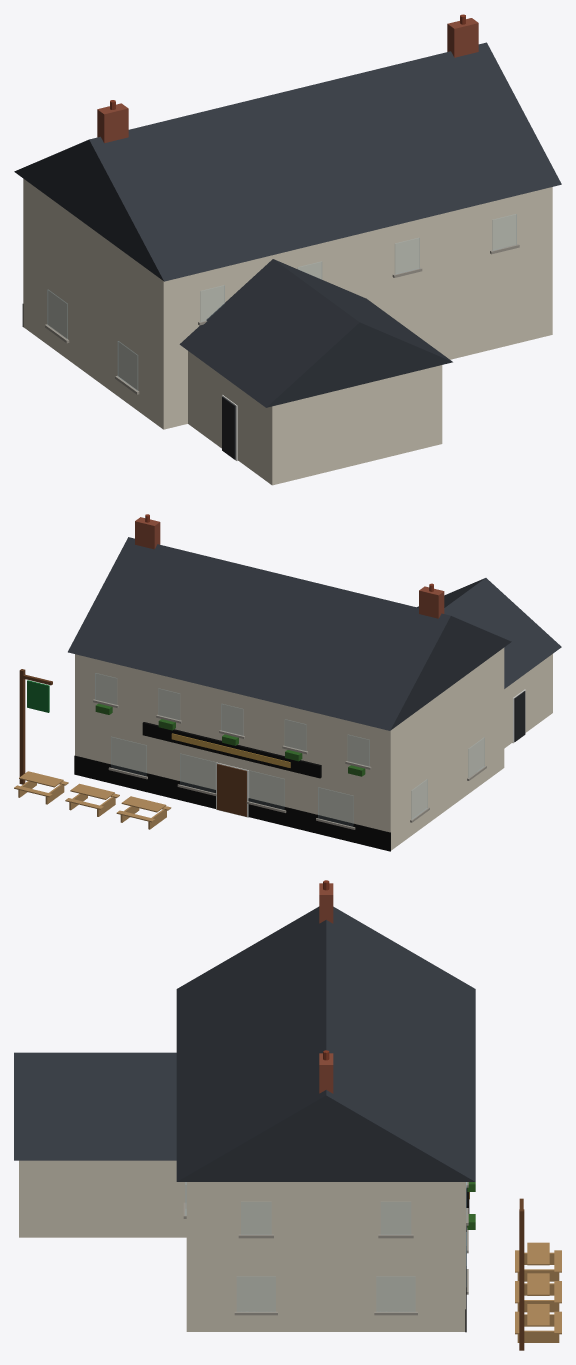
Rendered from context.type.pub.glb.
The picture shows the model from 3 angles, top to bottom: view 1: azimuth 30°, elevation 25°; view 2: azimuth 150°, elevation 25°; view 3: azimuth 270°, elevation 25°; orthographic projection. The views are drawn at different scales.
Visible parts, largest first — view 1: roof__slate, walls__render, openings__glass, roof__brick, openings__steel_dark; view 2: roof__slate, walls__render, openings__glass, openings__plastic_black, walls__softwood, roof__brick, openings__hardwood, openings__paving, walls__hardwood, openings__brass, openings__foliage, walls__plastic_green (+1 smaller); view 3: roof__slate, walls__render, openings__glass, walls__softwood, roof__brick, openings__paving, walls__hardwood.
Boxes of the visible parts, x1=… form: roof__slate: x1=14, y1=42, x2=561, y2=407; walls__render: x1=23, y1=179, x2=552, y2=485; openings__glass: x1=47, y1=214, x2=516, y2=390; roof__brick: x1=97, y1=18, x2=478, y2=143; openings__steel_dark: x1=222, y1=397, x2=235, y2=459; roof__slate: x1=68, y1=537, x2=561, y2=730; walls__render: x1=75, y1=647, x2=552, y2=850; openings__glass: x1=95, y1=673, x2=484, y2=826; openings__plastic_black: x1=74, y1=722, x2=390, y2=851; walls__softwood: x1=14, y1=771, x2=171, y2=829; roof__brick: x1=135, y1=517, x2=444, y2=618; openings__hardwood: x1=217, y1=764, x2=246, y2=816; openings__paving: x1=93, y1=699, x2=486, y2=829; walls__hardwood: x1=19, y1=669, x2=52, y2=784; openings__brass: x1=171, y1=733, x2=290, y2=767; openings__foliage: x1=95, y1=703, x2=365, y2=776; walls__plastic_green: x1=27, y1=680, x2=49, y2=712; roof__slate: x1=14, y1=906, x2=475, y2=1181; walls__render: x1=19, y1=1160, x2=465, y2=1331; openings__glass: x1=185, y1=1182, x2=466, y2=1311; walls__softwood: x1=515, y1=1242, x2=561, y2=1342; roof__brick: x1=319, y1=883, x2=333, y2=1093; openings__paving: x1=183, y1=1182, x2=468, y2=1315; walls__hardwood: x1=519, y1=1198, x2=524, y2=1350.
Bounding box in the file's own units: 17.78 × 10.74 × 19.62.
